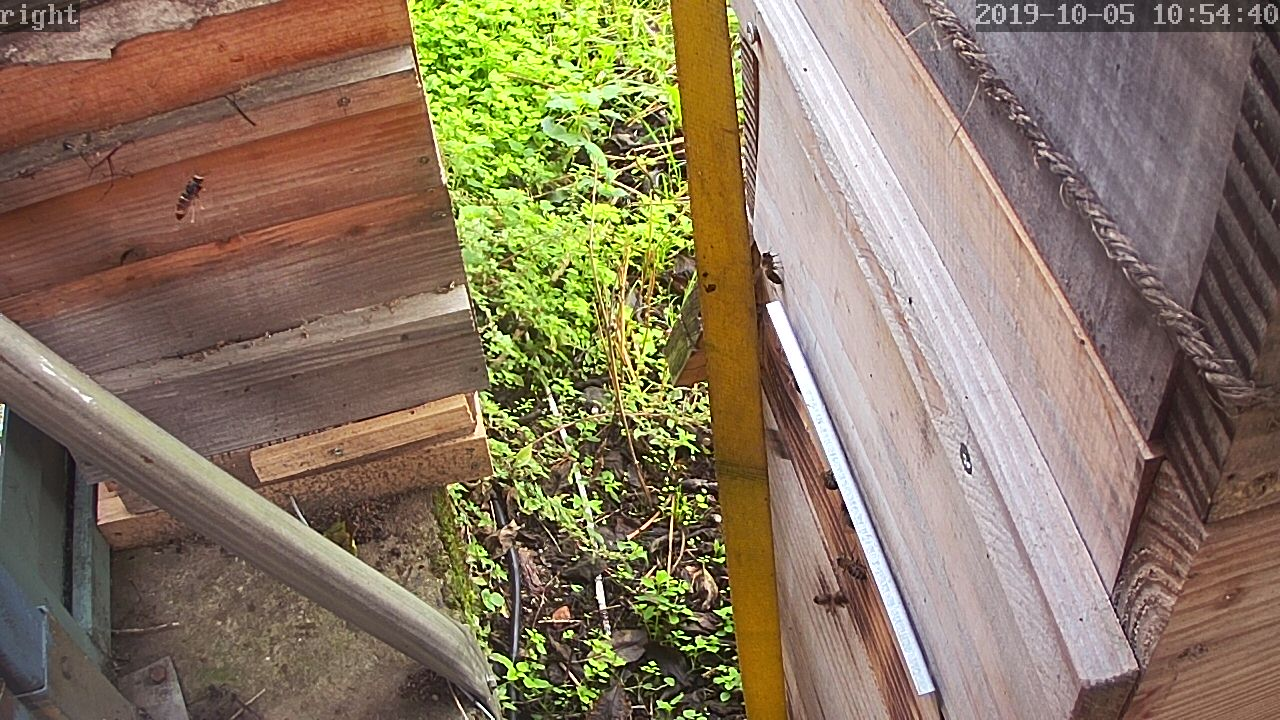bee: (755, 243, 790, 295), (829, 545, 865, 584), (829, 494, 859, 535), (811, 587, 854, 612), (813, 466, 841, 500)
hornet: (171, 171, 212, 226)
